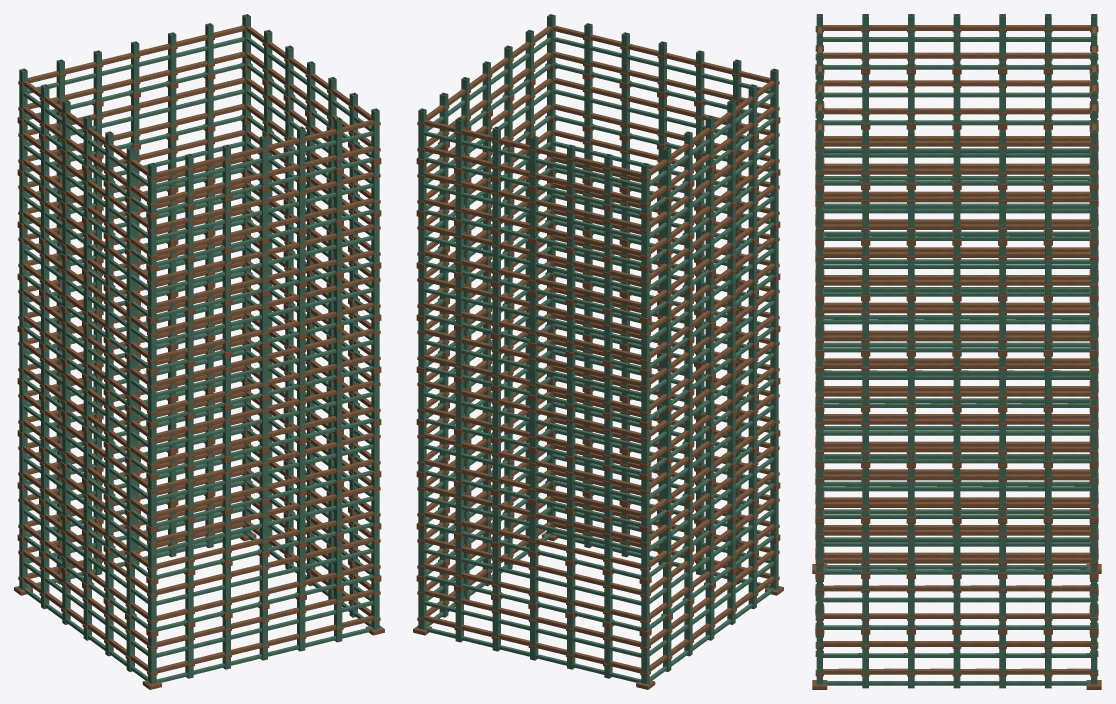
The picture shows the model from 3 angles, left to right: view 1: azimuth 30°, elevation 25°; view 2: azimuth 150°, elevation 25°; view 3: azimuth 270°, elevation 25°; orthographic projection. The views are drawn at different scales.
Bounding box in the file's own units: 2.85 × 6.03 × 2.85.
Materials: 2 (2 with a texture image).
